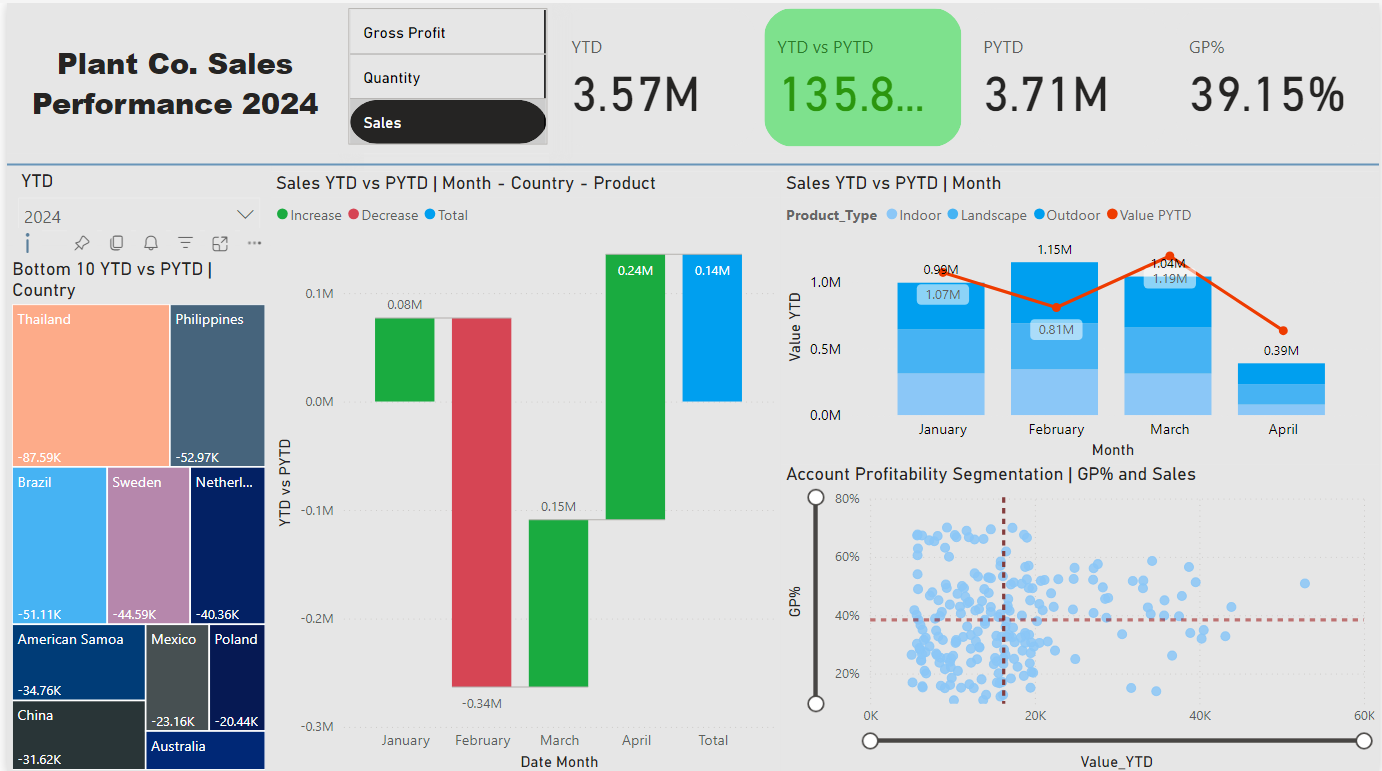

Layout of this report page (visuals, bound fields, positions):
{"tool":"powerbi","page":{"name":"Page 1","canvas":[1280,720],"ordinal":0},"visuals":[{"type":"cardVisual","fields":{"Data":["Measure.S_YTD","Measure.YTD vs PYTD","Measure.S_PYTD","Measure.GP%"]},"box":[509.1,0,770.9,139.9],"z":0},{"type":"advancedSlicerVisual","fields":{"Values":["Slc_Values.Values"]},"box":[313.7,0,195.4,139.9],"z":1000},{"type":"slicer","fields":{"Values":["Dim_Date.Date.Variation.Date Hierarchy.Year"]},"box":[0,150.8,246.1,76],"z":2000},{"type":"treemap","title":"Bottom 10 YTD vs PYTD | Country","fields":{"Values":["Measure.YTD vs PYTD"],"Group":["Dim_Accounts.Country"]},"box":[0,237.7,246.1,482.6],"z":3000},{"type":"waterfallChart","fields":{"Y":["Measure.YTD vs PYTD"],"Category":["Dim_Date.Date.Variation.Date Hierarchy.Month","Dim_Accounts.Country","Dim_Product.Product_Type","Dim_Product.Product_Name"]},"box":[246.1,156.8,475.3,563.4],"z":4000},{"type":"lineStackedColumnComboChart","fields":{"Y":["Measure.S_YTD"],"Y2":["Measure.S_PYTD"],"Category":["Dim_Date.Date.Variation.Date Hierarchy.Quarter","Dim_Date.Date.Variation.Date Hierarchy.Month"],"Series":["Dim_Product.Product_Type"]},"box":[721.5,156.8,558.6,272.7],"z":5000},{"type":"shape","box":[0,144.8,1280,12.1],"z":6000},{"type":"scatterChart","fields":{"Y":["Measure.GP%"],"X":["Measure.S_YTD"],"Category":["Dim_Accounts.Account"]},"box":[721.5,429.5,558.6,290.8],"z":7000},{"type":"card","fields":{"Values":["Measure._Repor title"]},"box":[0,0,313.7,139.9],"z":8000}]}

Visuals, with their boxes in screenshot pixels (x1, y1, x2, y2), scaled from the page's 1280x720 canvas onto the 1382x771 screenshot:
cardVisual - Measure.S_YTD x Measure.YTD vs PYTD: (x1=550, y1=0, x2=1381, y2=150)
advancedSlicerVisual - Slc_Values.Values: (x1=339, y1=0, x2=550, y2=150)
slicer - Dim_Date.Date.Variation.Date Hierarchy.Year: (x1=0, y1=161, x2=266, y2=243)
"Bottom 10 YTD vs PYTD | Country" treemap: (x1=0, y1=255, x2=266, y2=770)
waterfallChart - Measure.YTD vs PYTD x Dim_Date.Date.Variation.Date Hierarchy.Month: (x1=266, y1=168, x2=779, y2=770)
lineStackedColumnComboChart - Measure.S_YTD x Measure.S_PYTD: (x1=779, y1=168, x2=1381, y2=460)
shape: (x1=0, y1=155, x2=1381, y2=168)
scatterChart - Measure.GP% x Measure.S_YTD: (x1=779, y1=460, x2=1381, y2=770)
card - Measure._Repor title: (x1=0, y1=0, x2=339, y2=150)
